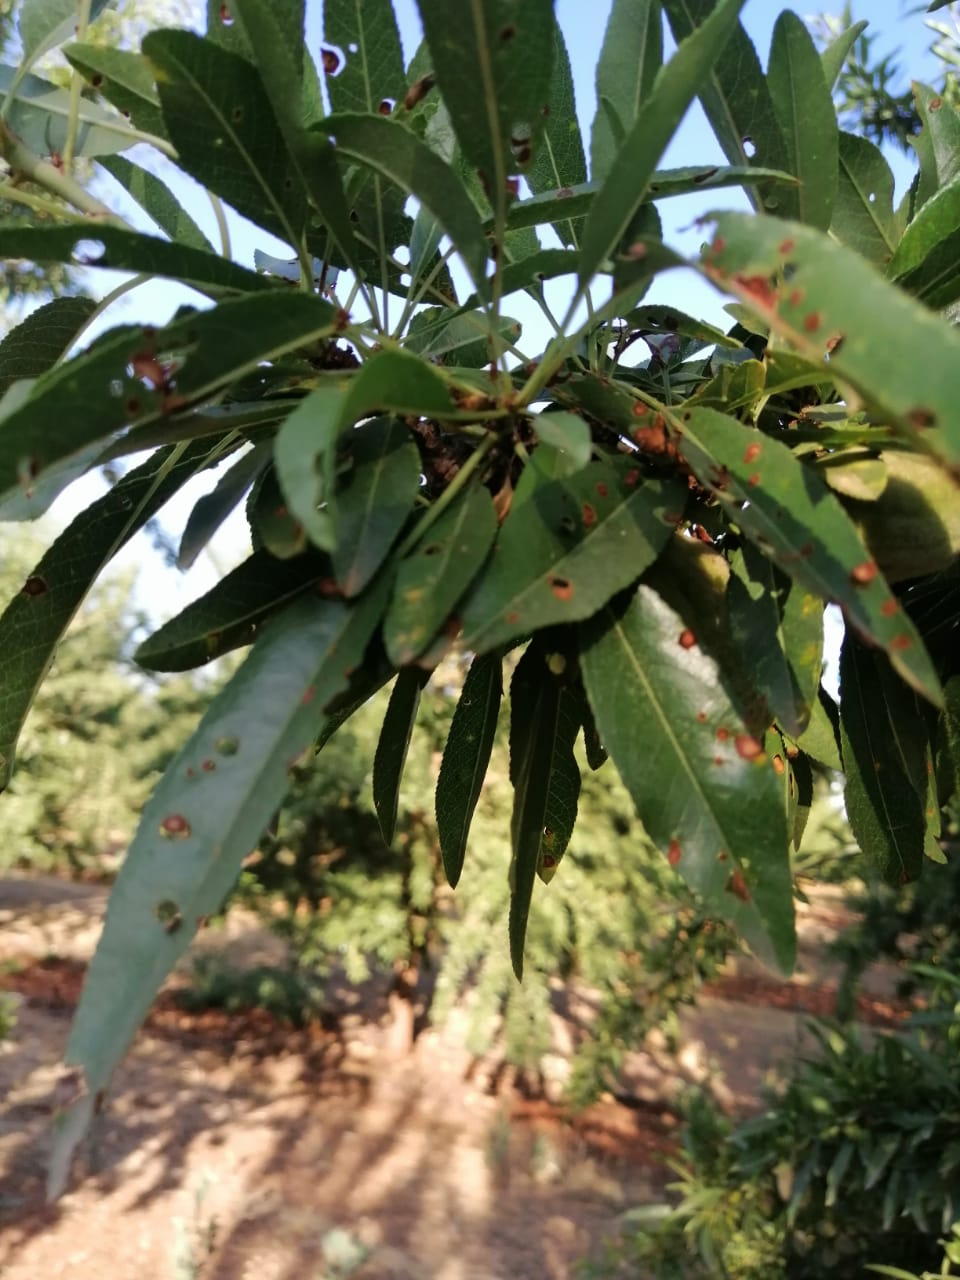coryneum: (46, 584, 398, 1210), (572, 588, 799, 984), (656, 407, 949, 703)
